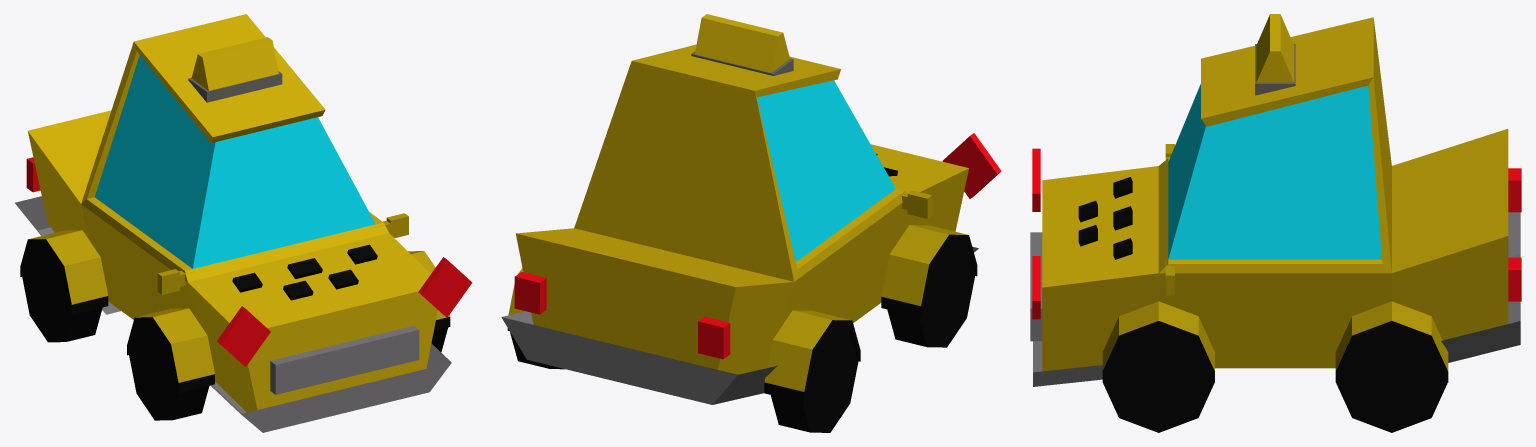
File: taxi.fbx
3 renders of one model, left to right at view 1: azimuth 30°, elevation 25°; view 2: azimuth 150°, elevation 25°; view 3: azimuth 270°, elevation 25°, orthographic. The views are drawn at different scales.
Visible parts, largest first — view 1: taxi; view 2: taxi; view 3: taxi.
Boxes of the visible parts, left/top/right/bottom form: taxi: left=15, top=14, right=472, bottom=432; taxi: left=501, top=14, right=1001, bottom=432; taxi: left=1030, top=14, right=1521, bottom=432.
Size of the model in its own units: 294 by 311 by 422.
Materials: 1 (1 with a texture image).
